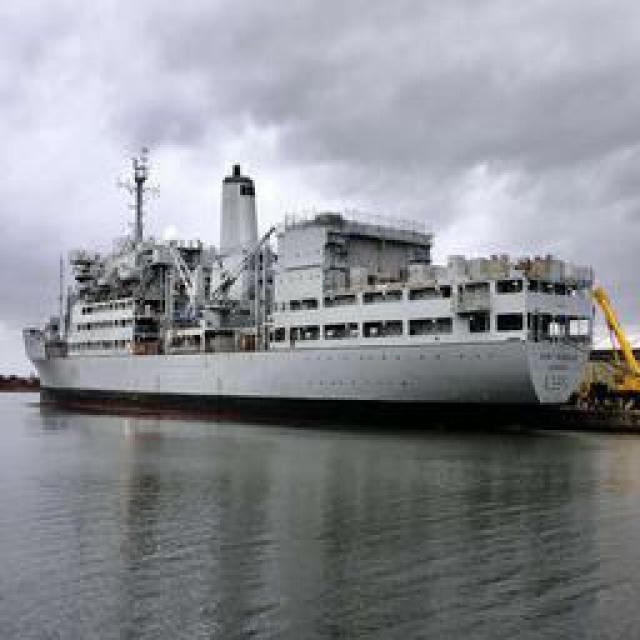Ship: (25, 176, 630, 411)
